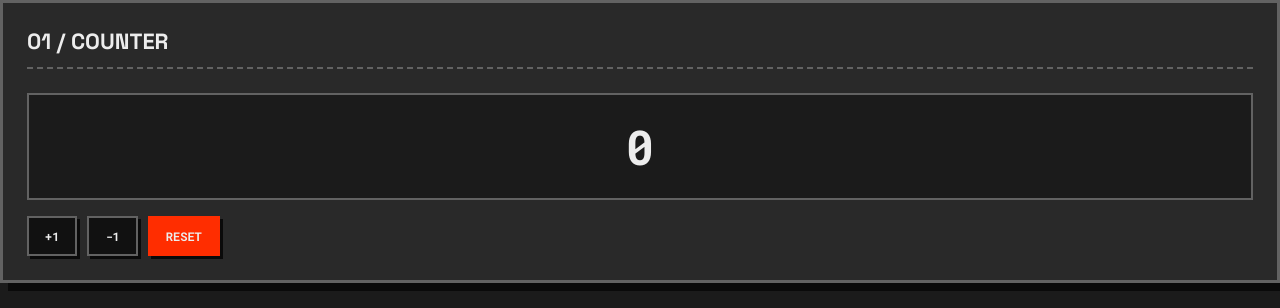
Test: Counter › скидає значення до 0
Click the button "+1" at (52, 236), box [27,216,77,256]
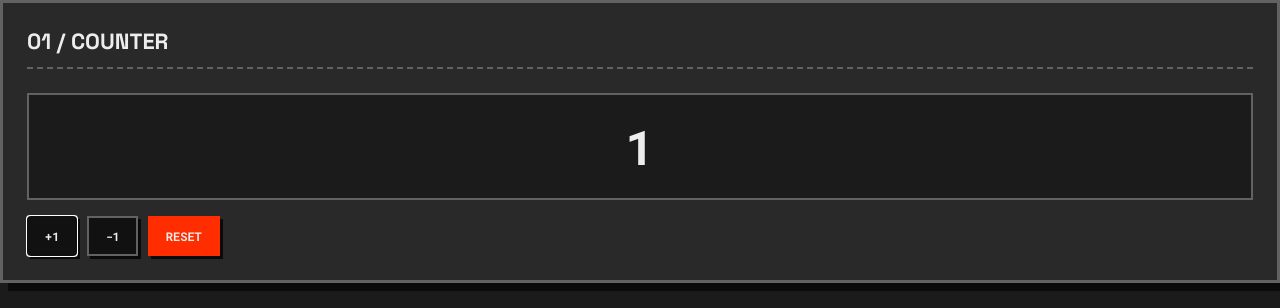
Click the button "+1" at (52, 236), box [27,216,77,256]
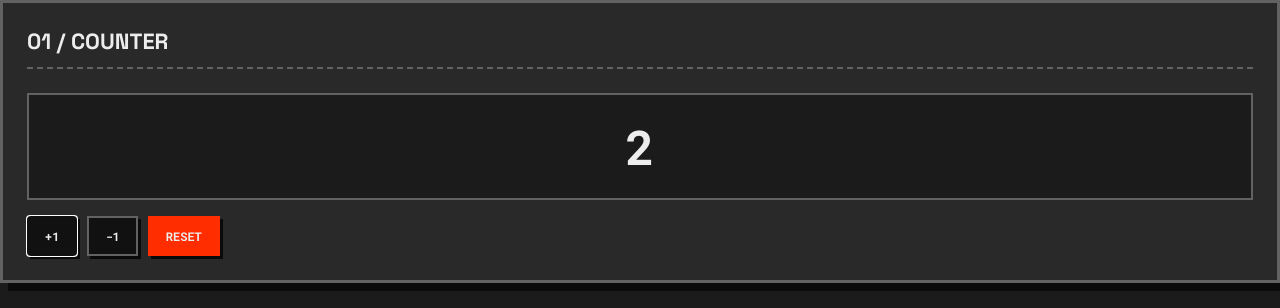
Click the button "Reset" at (184, 236), box [148,216,220,256]
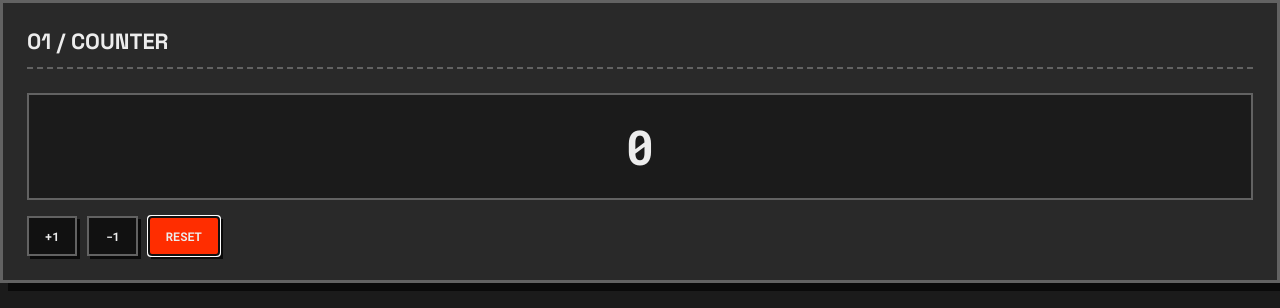
Result: the text "0" is shown at [626,115,654,178]
